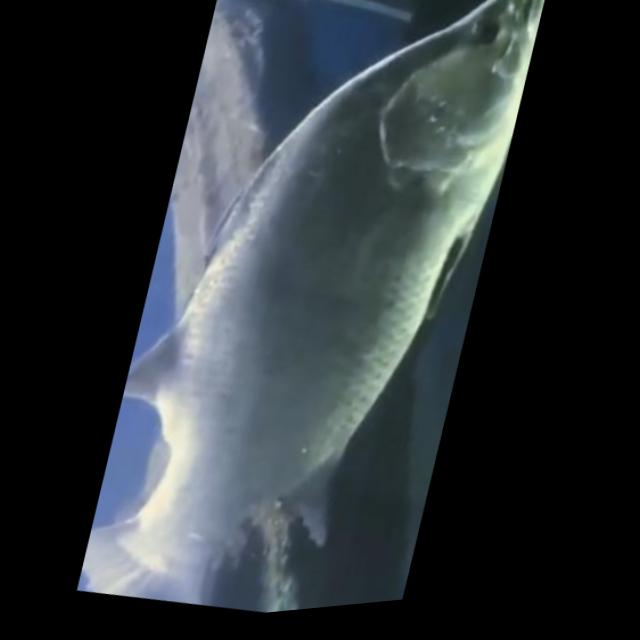Seabass: (73, 0, 547, 631)
